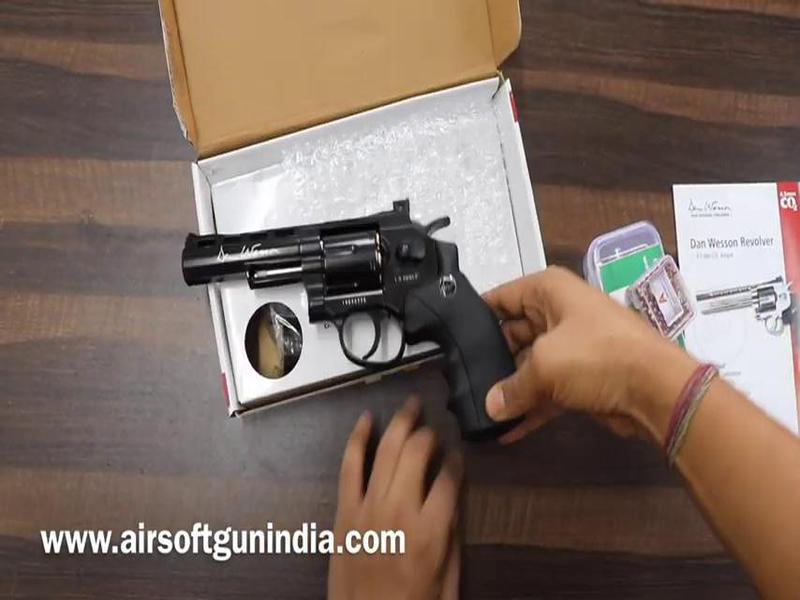Revolver: (180, 166, 530, 447)
